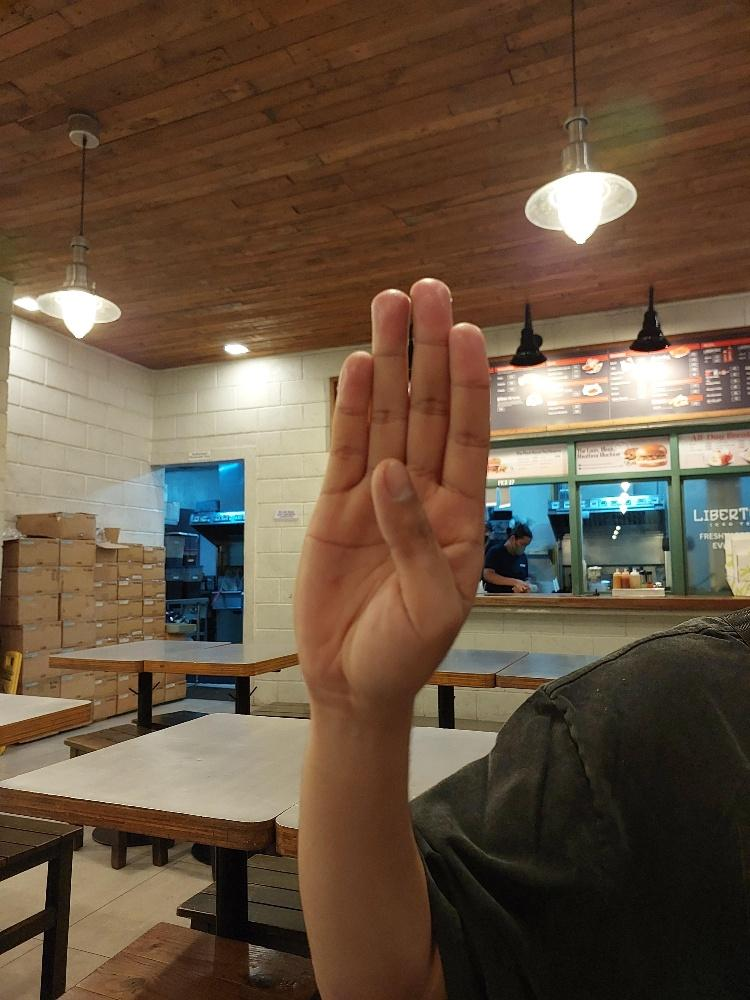b: (290, 274, 491, 716)
